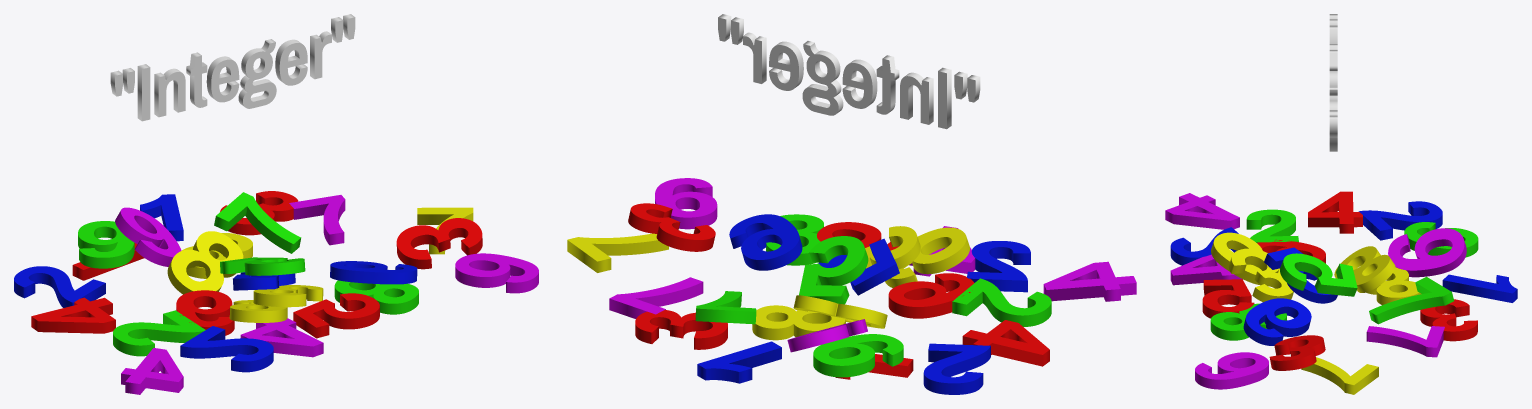
Rendered from Integer.fbx.
3 renders of one model, left to right at view 1: azimuth 30°, elevation 25°; view 2: azimuth 150°, elevation 25°; view 3: azimuth 270°, elevation 25°, orthographic. The views are drawn at different scales.
Parts seen in each view (by area): view 1: Text.027, Text.016, Text.023, Text.020, Text.019, Text.022, Text.001, Text.003, Text.017, Text.008, Text.010, Text.006 (+15 smaller); view 2: Text.027, Text.013, Text.005, Text.008, Text.010, Text.014, Text.012, Text.001, Text.019, Text.023, Text.026, Text.020 (+14 smaller); view 3: Text.017, Text.005, Text.013, Text.023, Text.012, Text.010, Text.002, Text.006, Text.022, Text.003, Text.016, Text.011 (+14 smaller).
Part boxes in pixels (left/top/right/bottom): Text.027: left=110, top=14, right=355, bottom=121; Text.016: left=167, top=231, right=243, bottom=294; Text.023: left=455, top=253, right=538, bottom=293; Text.020: left=396, top=218, right=482, bottom=269; Text.019: left=180, top=326, right=273, bottom=372; Text.022: left=293, top=293, right=379, bottom=338; Text.001: left=113, top=310, right=205, bottom=356; Text.003: left=31, top=297, right=115, bottom=333; Text.017: left=115, top=207, right=181, bottom=266; Text.008: left=78, top=221, right=134, bottom=268; Text.010: left=14, top=266, right=105, bottom=307; Text.006: left=214, top=192, right=301, bottom=253; Text.027: left=718, top=14, right=980, bottom=129; Text.013: left=799, top=236, right=868, bottom=304; Text.005: left=729, top=214, right=802, bottom=270; Text.008: left=813, top=334, right=903, bottom=377; Text.010: left=923, top=343, right=990, bottom=394; Text.014: left=888, top=273, right=974, bottom=318; Text.012: left=1043, top=261, right=1136, bottom=301; Text.001: left=952, top=278, right=1051, bottom=326; Text.019: left=967, top=241, right=1030, bottom=292; Text.023: left=655, top=178, right=717, bottom=229; Text.026: left=885, top=227, right=969, bottom=287; Text.020: left=628, top=203, right=715, bottom=251; Text.017: left=1388, top=228, right=1466, bottom=277; Text.005: left=1243, top=298, right=1311, bottom=345; Text.013: left=1280, top=253, right=1357, bottom=296; Text.023: left=1195, top=352, right=1268, bottom=389; Text.012: left=1165, top=193, right=1239, bottom=229; Text.010: left=1358, top=201, right=1442, bottom=240; Text.002: left=1228, top=248, right=1293, bottom=302; Text.006: left=1369, top=277, right=1454, bottom=324; Text.022: left=1202, top=279, right=1254, bottom=318; Text.003: left=1308, top=191, right=1362, bottom=233; Text.016: left=1334, top=246, right=1395, bottom=292; Text.011: left=1420, top=299, right=1477, bottom=341.
Bounding box in the file's own units: 300 × 163 × 230.
